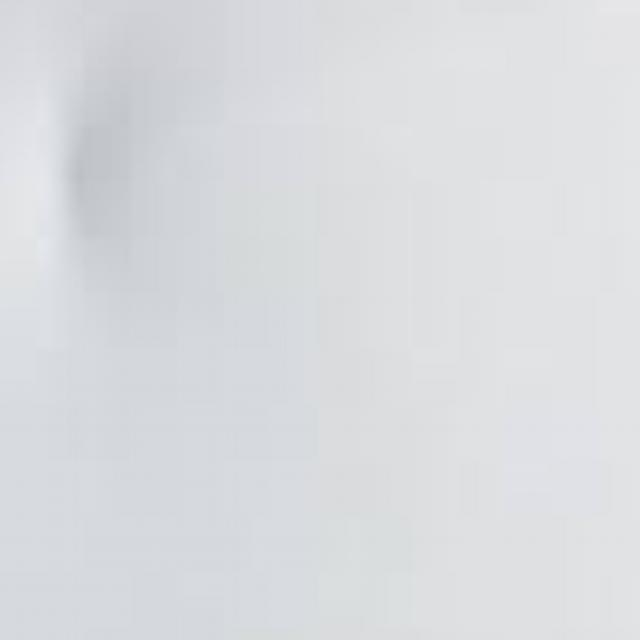dents: (30, 88, 122, 264)
